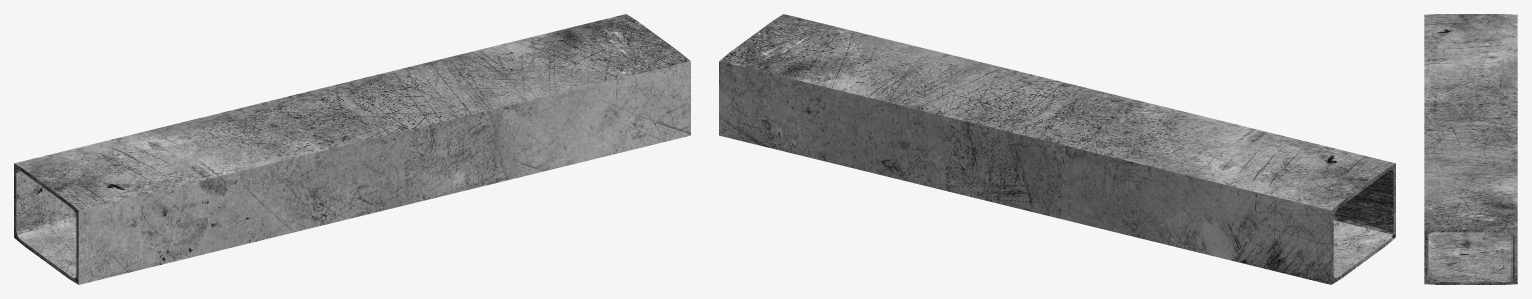
Rendered from vent_long.fbx.
The picture shows the model from 3 angles, left to right: view 1: azimuth 30°, elevation 25°; view 2: azimuth 150°, elevation 25°; view 3: azimuth 270°, elevation 25°; orthographic projection. The views are drawn at different scales.
Visible parts, largest first — view 1: Cube.004; view 2: Cube.004; view 3: Cube.004.
Boxes of the visible parts, bbox=[...] form: Cube.004: bbox=[14, 14, 690, 284]; Cube.004: bbox=[719, 14, 1395, 284]; Cube.004: bbox=[1424, 14, 1517, 284].
Size of the model in its own units: 12991 by 2371 by 1554.
